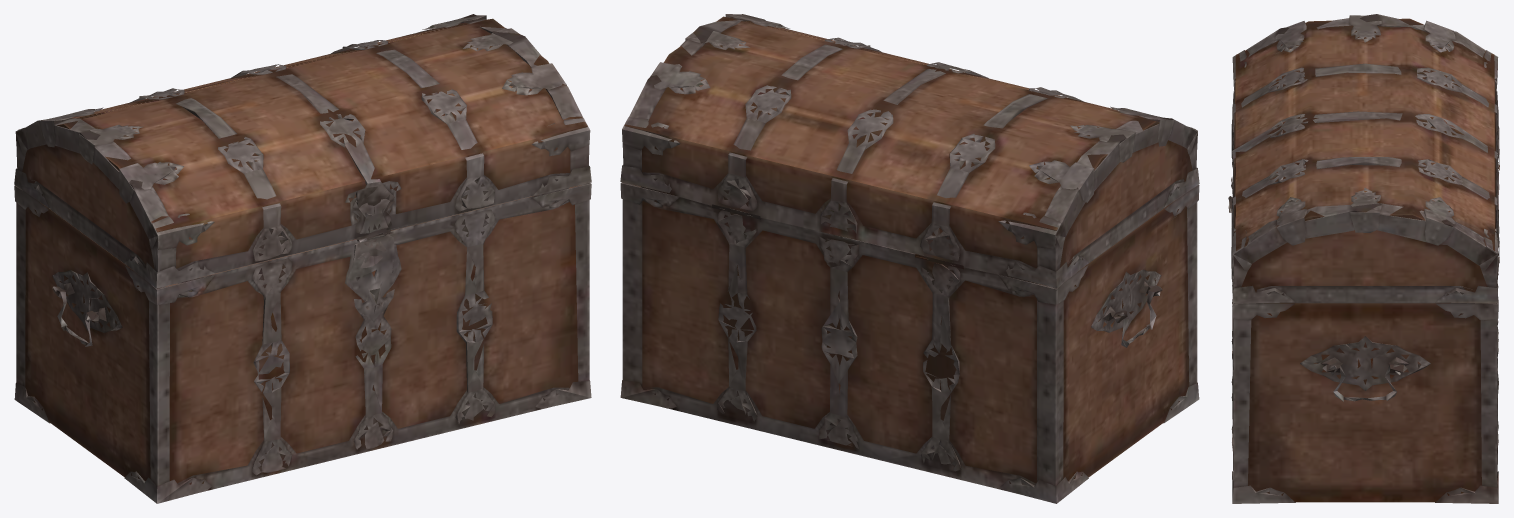
Rendered from chest.glb.
3 views of the same model, side by side, from view 1: azimuth 30°, elevation 25°; view 2: azimuth 150°, elevation 25°; view 3: azimuth 270°, elevation 25° (orthographic). The views are drawn at different scales.
Visible parts, largest first — view 1: chest; view 2: chest; view 3: chest.
Part boxes in pixels (x1=…): chest: x1=14, y1=14, x2=591, y2=503; chest: x1=620, y1=14, x2=1199, y2=503; chest: x1=1228, y1=14, x2=1499, y2=503.
Bounding box in the file's own units: 0.9575 × 0.6183 × 0.5201.
1 material, 1 textured.
